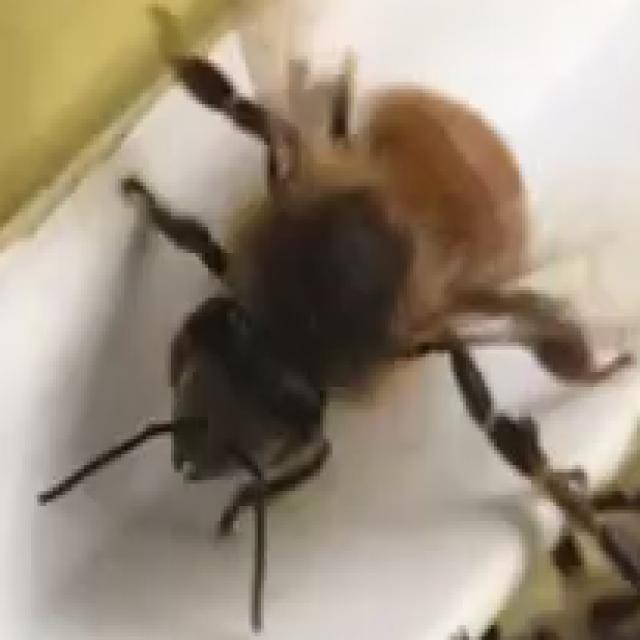honeybee: (125, 53, 640, 617)
